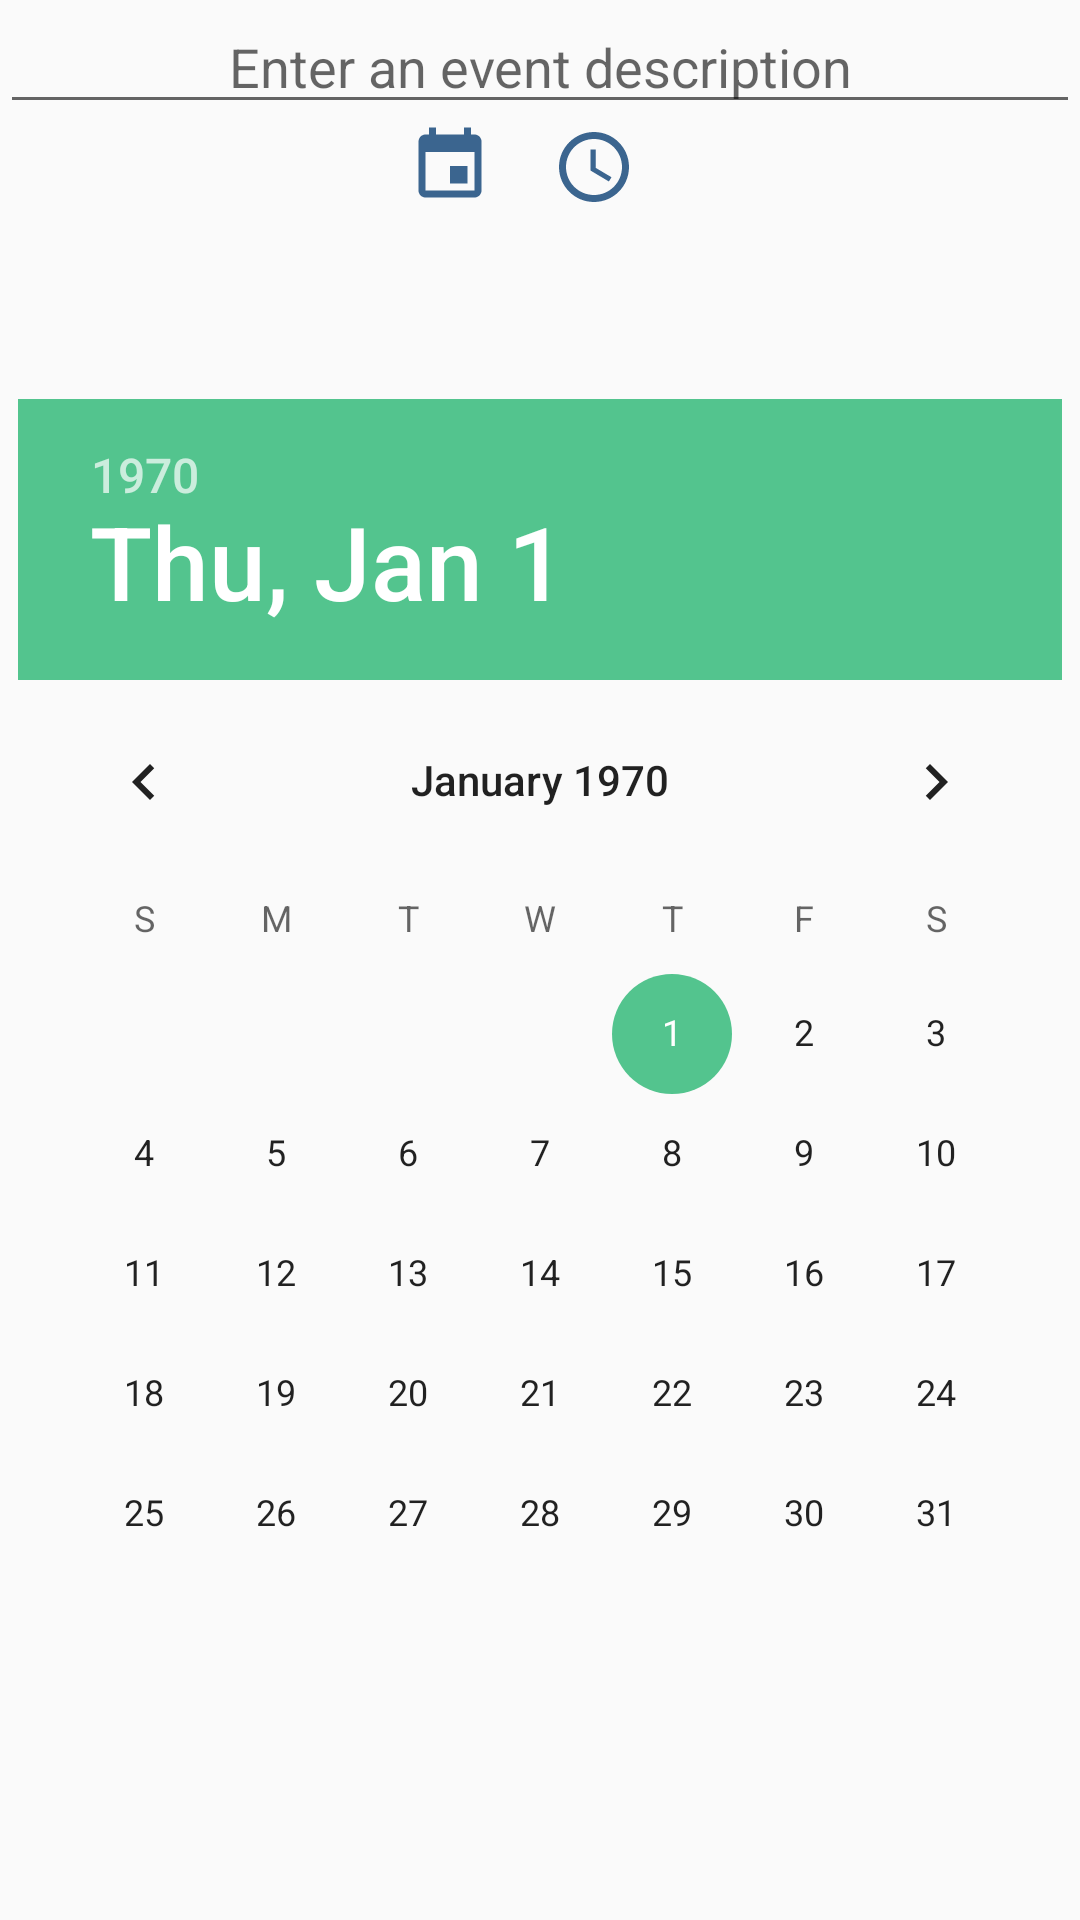

Screen size 1080px x 1920px. Icon name, then its center in pixels as (x,y):
clock: (594,167)
date: (450,162)
